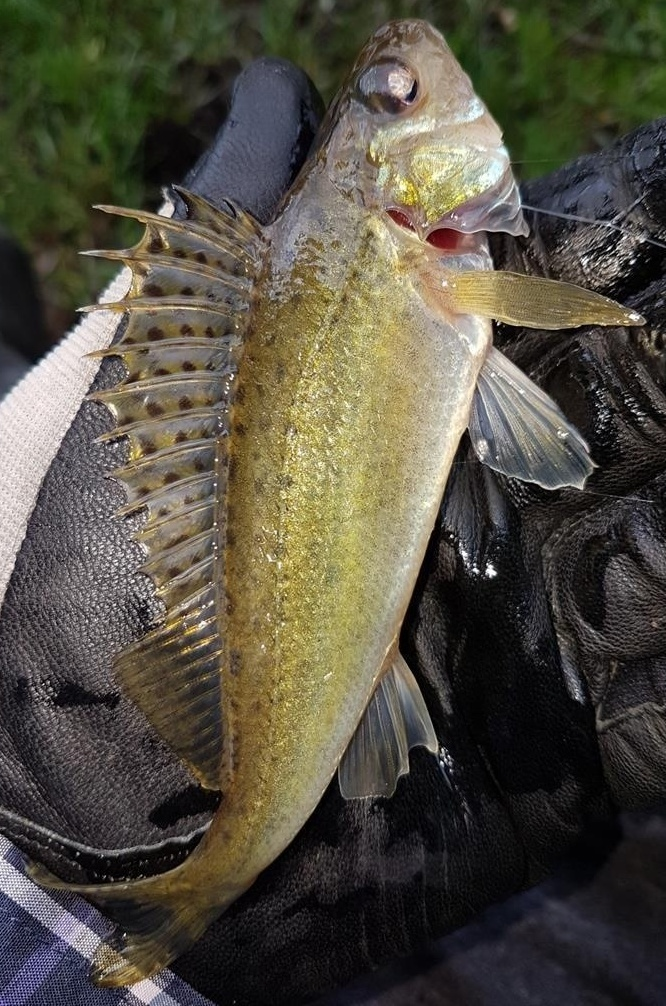Gymnocephalus cernuus: (20, 20, 646, 987)
